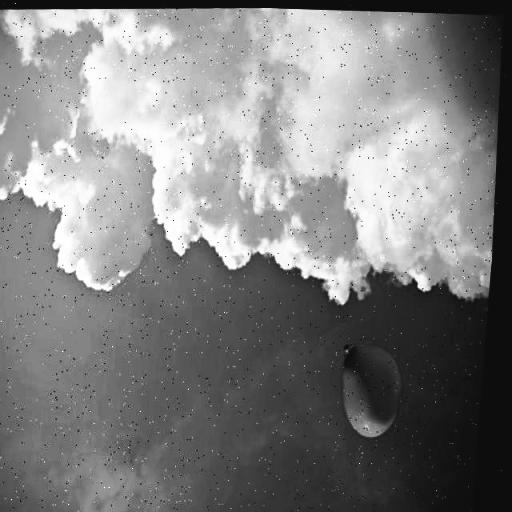balloon: (340, 328, 416, 442)
